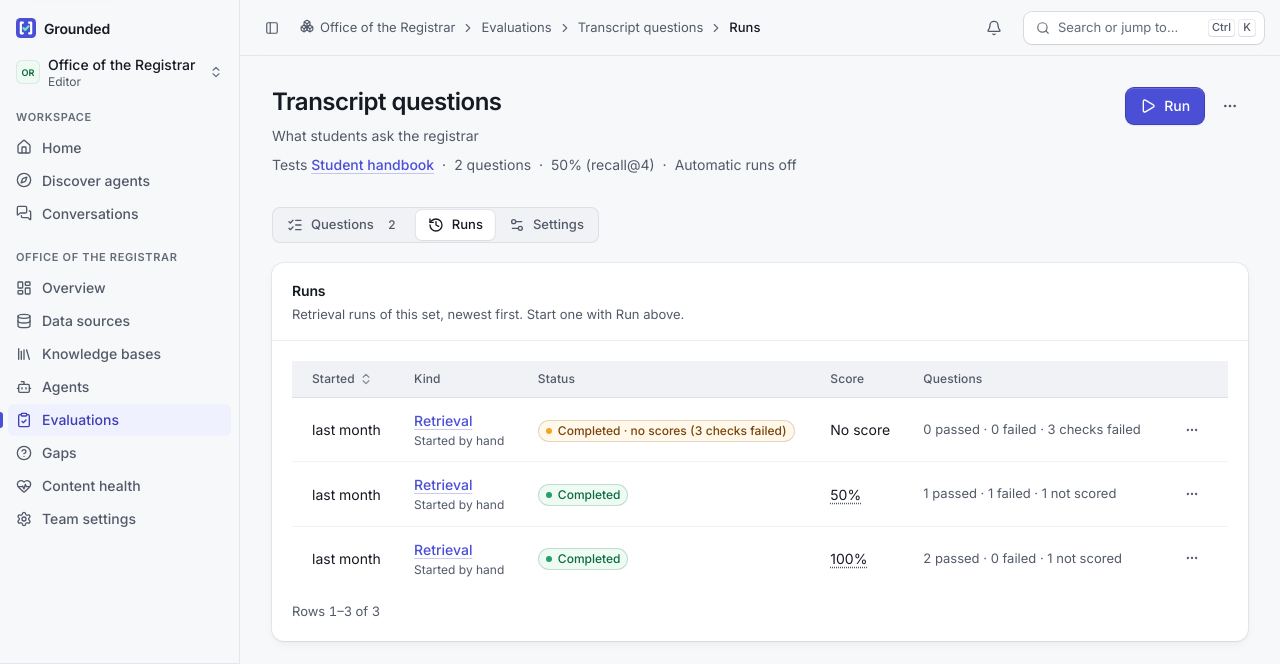
it: a set's runs › marks a run in which every check failed apart from one that completed with a score
This screenshot has width=1280, height=664.
Expected: the row named "Retrieval, Sep 29" shows "no score", 830,421 -> 890,438
What coordinates should you click on to do the following:
click the link named "Retrieval, Sep 29"
I would click on:
 (443, 421)
Its box is 414,412 -> 472,429.
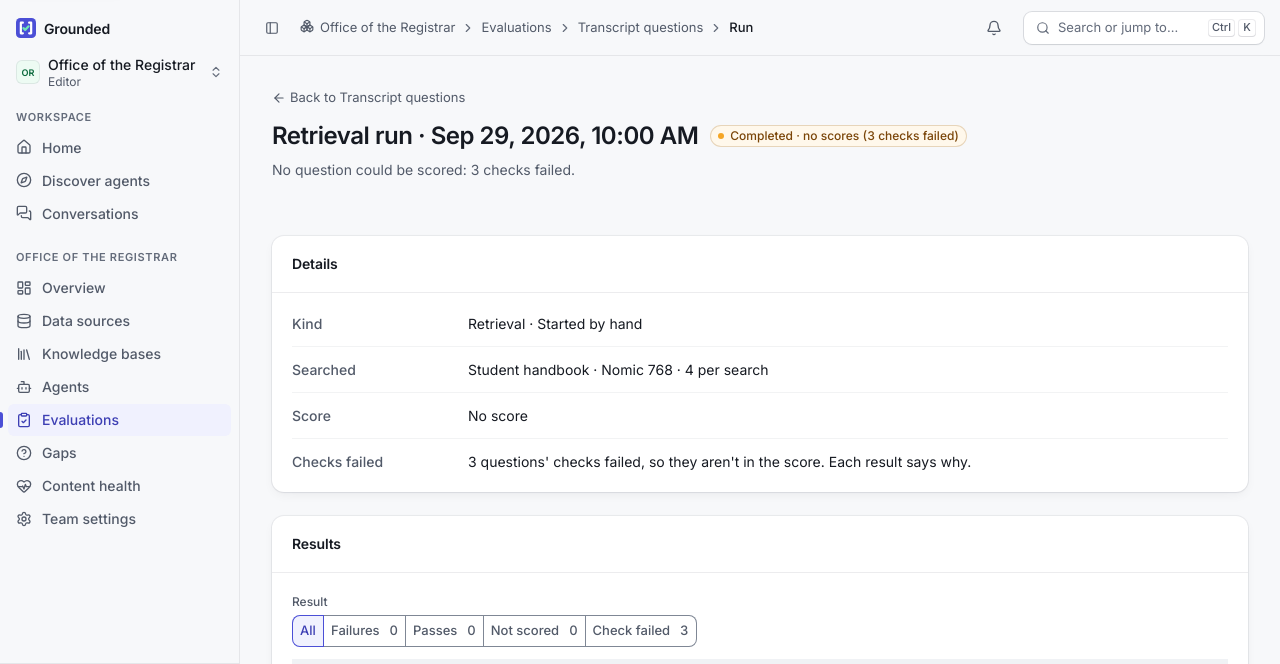
Expected: the text "No question could be scored: 3 checks failed." is shown, 272,160 -> 575,178
Expected: the text "3 questions' checks failed, so they aren't in the score" is shown, 468,452 -> 971,470
